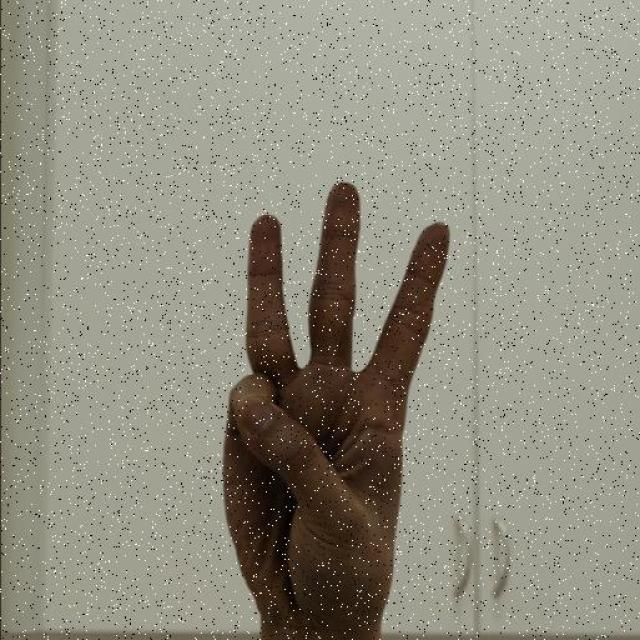W: (217, 174, 452, 640)
